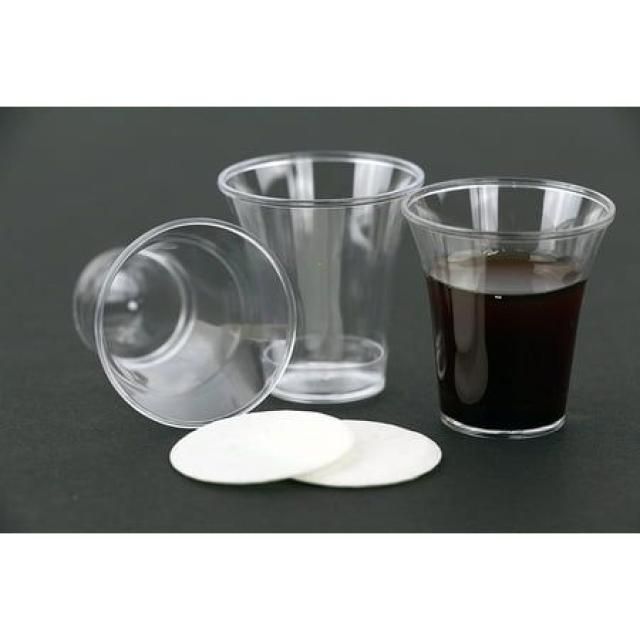GelasPlastik: (400, 175, 616, 439), (226, 150, 424, 407), (70, 213, 297, 428)
